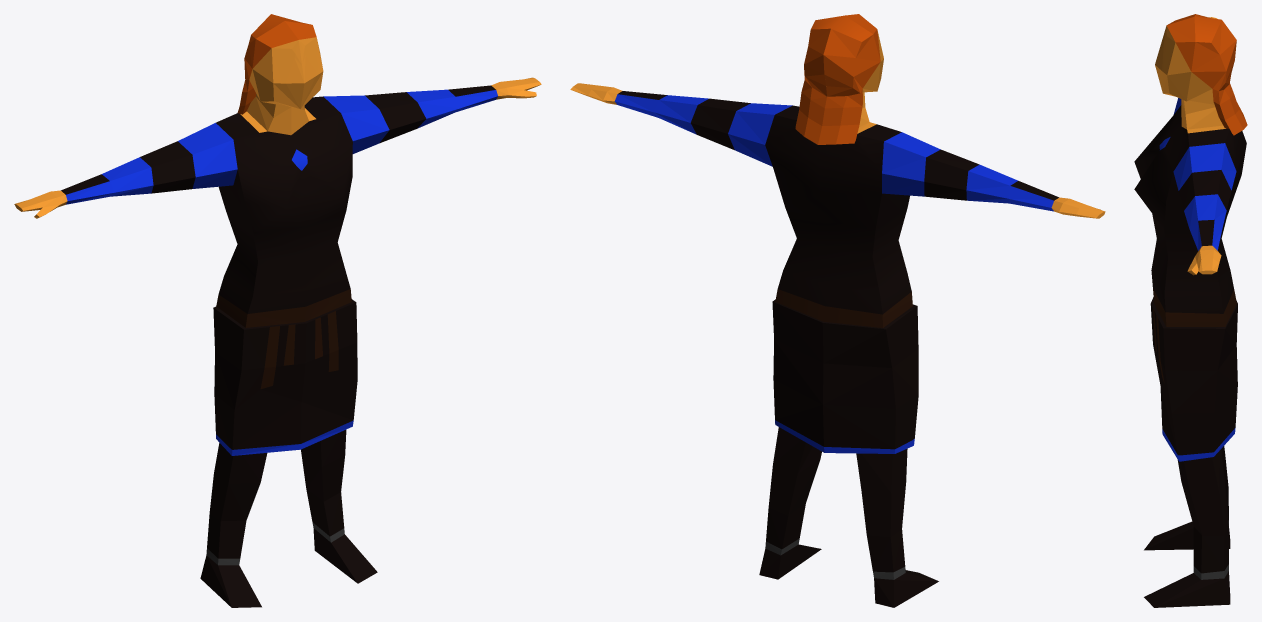
Rendered from Barbara.fbx.
3 renders of one model, left to right at view 1: azimuth 30°, elevation 25°; view 2: azimuth 150°, elevation 25°; view 3: azimuth 270°, elevation 25°, orthographic.
Visible parts, largest first — view 1: Box002; view 2: Box002; view 3: Box002.
Boxes of the visible parts, x1,y1,x2,y2 form: Box002: (14,14,541,607); Box002: (570,14,1105,607); Box002: (1134,14,1247,607).
Bounding box in the file's own units: 1.65 × 1.69 × 0.3114.
